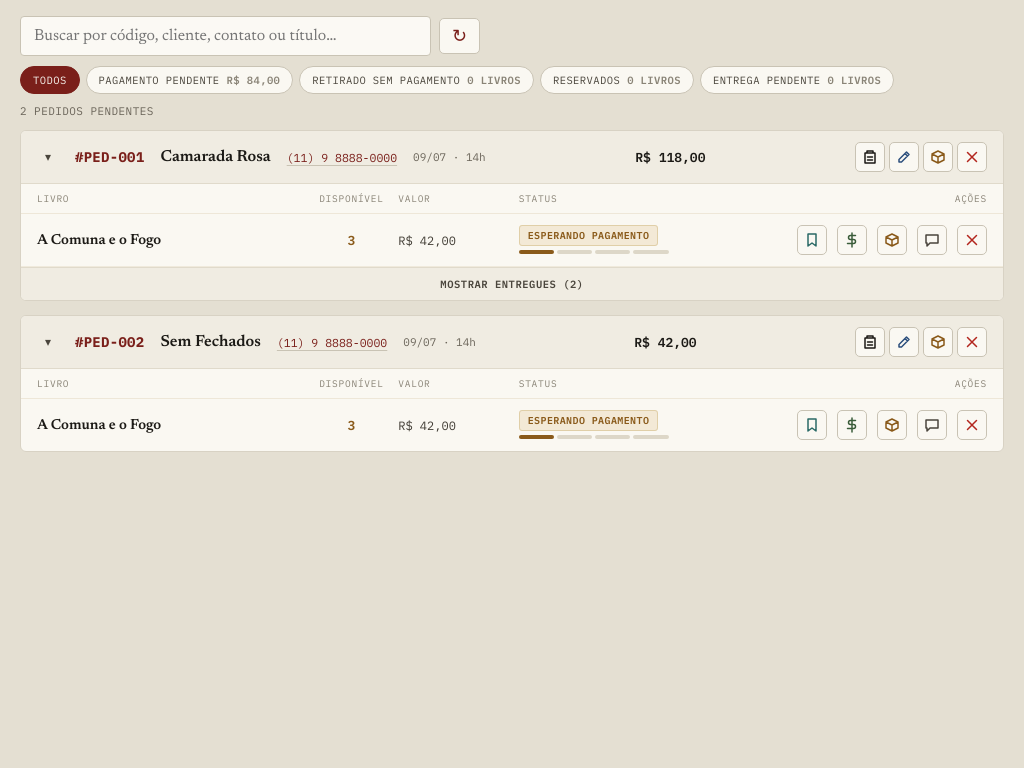
Backoffice — Pedidos (linhas por unidade) › itens entregues ficam recolhidos POR CARD: Mostrar entregues (N) expande só aquele pedido
The width and height of the screenshot is (1024, 768).
Expected: the text "Sem Fechados" is shown, [160, 334, 261, 350]
Expected: the text "O Pão e as Rosas" is not shown
Click the button "Mostrar entregues (2)" at (512, 284), box [21, 268, 1003, 300]
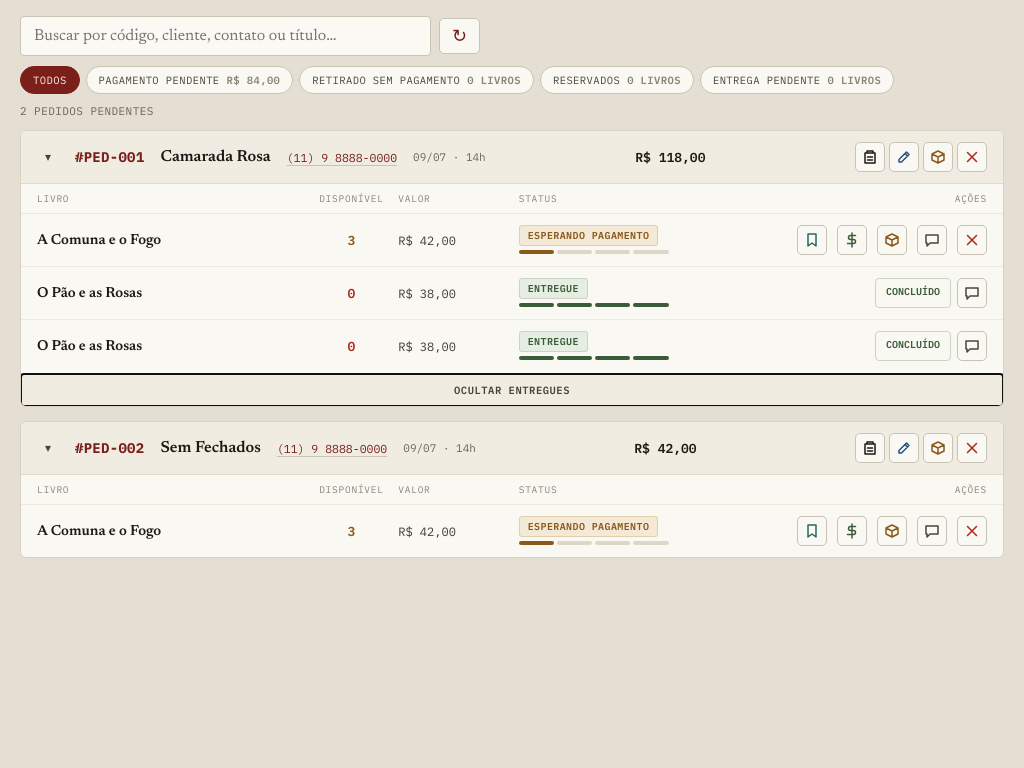
Expected: the text "O Pão e as Rosas" is shown 2 times, [37, 286, 142, 300]; [37, 338, 142, 354]
Click the button "Ocultar entregues" at (512, 390), box [21, 374, 1003, 406]
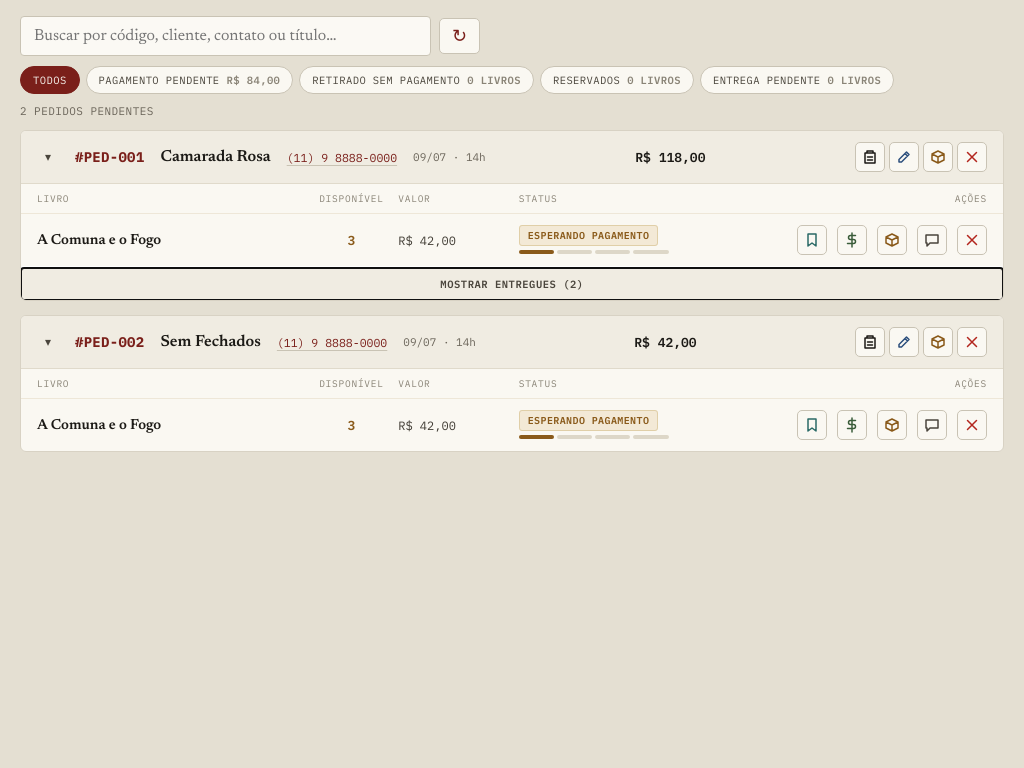
Expected: the text "O Pão e as Rosas" is gone
